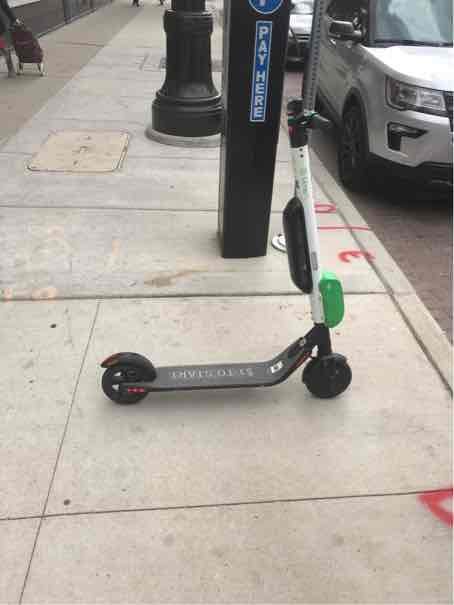scooter: (90, 105, 361, 406)
